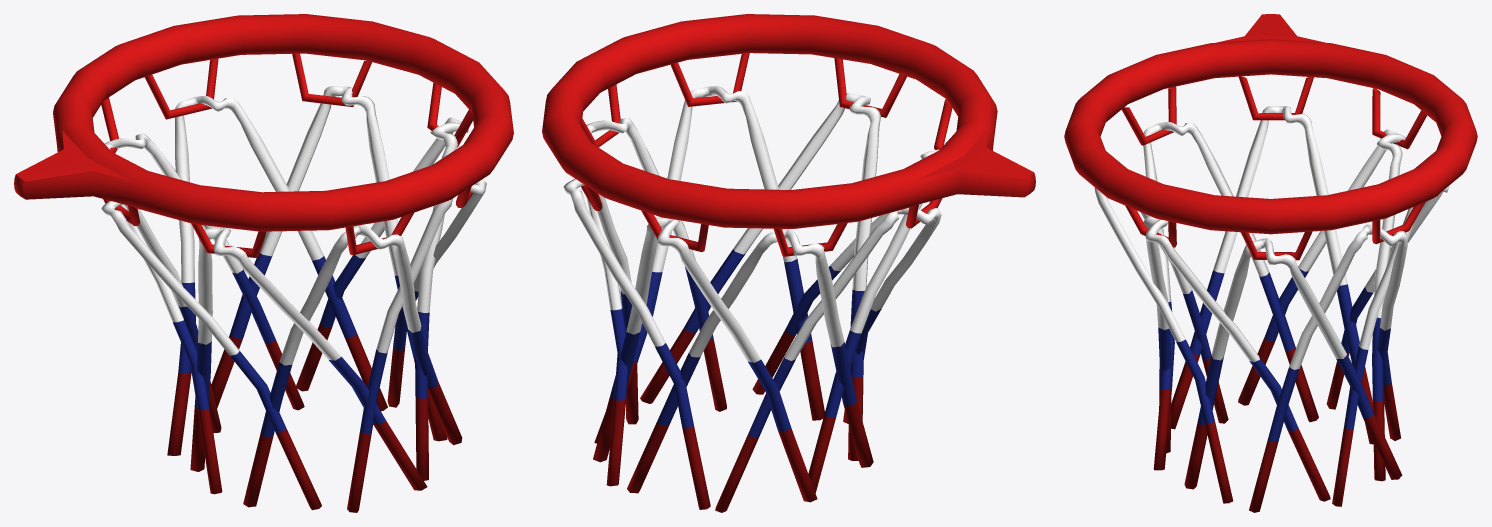
The model's file is panier_basket.fbx.
The picture shows the model from 3 angles, left to right: view 1: azimuth 30°, elevation 25°; view 2: azimuth 150°, elevation 25°; view 3: azimuth 270°, elevation 25°; orthographic projection. The views are drawn at different scales.
Visible parts, largest first — view 1: Cylinder093, Torus052, Torus055; view 2: Cylinder093, Torus052, Torus055; view 3: Cylinder093, Torus052, Torus055.
Part boxes in pixels (box(x1,y1,x2,y2)): Cylinder093: box(101, 86, 486, 512); Torus052: box(14, 14, 513, 231); Torus055: box(101, 53, 473, 257); Cylinder093: box(563, 86, 941, 512); Torus052: box(542, 14, 1035, 228); Torus055: box(581, 52, 952, 256); Cylinder093: box(1094, 106, 1449, 512); Torus052: box(1064, 14, 1477, 234); Torus055: box(1121, 76, 1438, 260).
Size of the model in its own units: 14.65 by 11.03 by 12.63.
